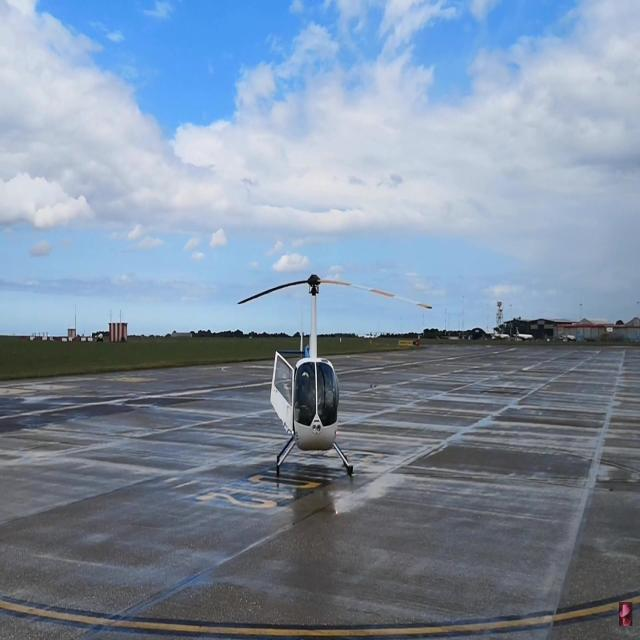CIV_HELO: (268, 272, 354, 480)
